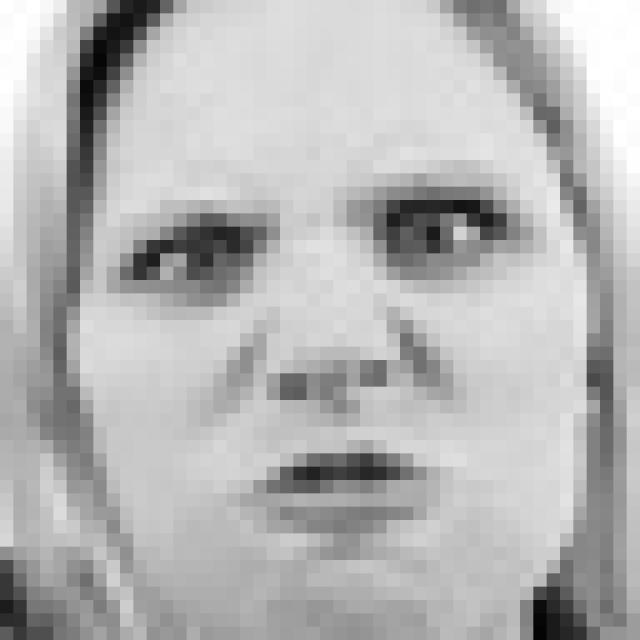angry: (113, 154, 571, 572)
